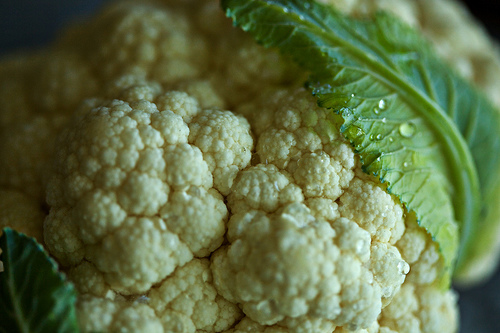cauliflower: (3, 1, 499, 331)
